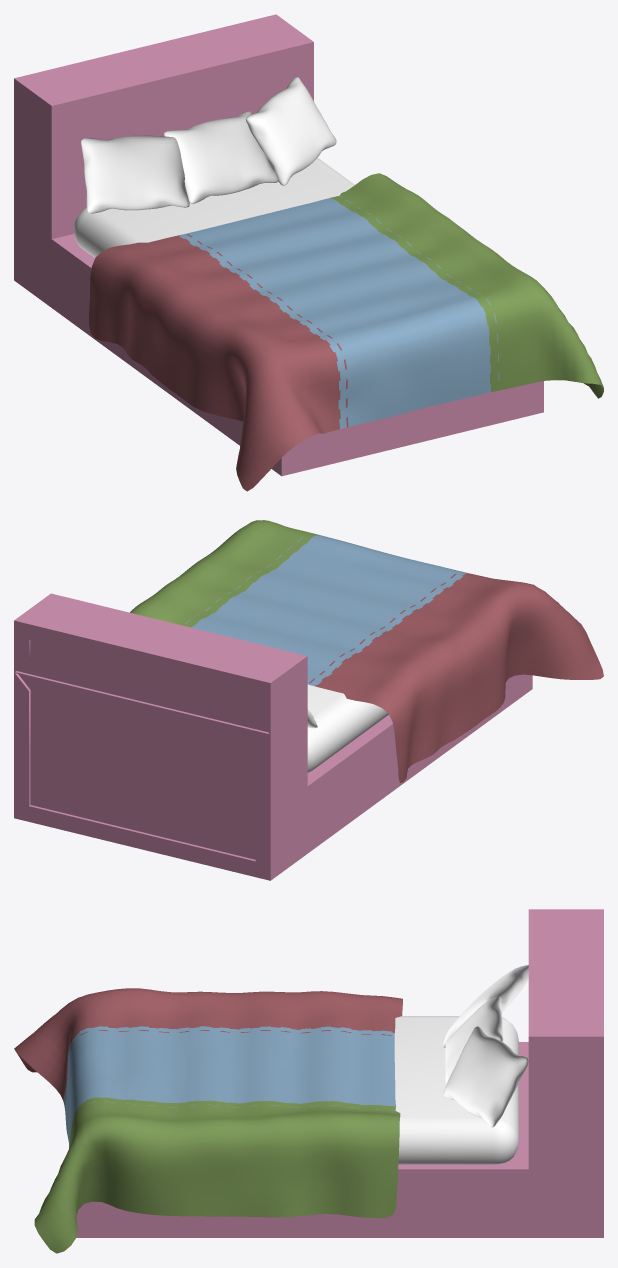
Rendered from bed5.obj.
3 renders of one model, top to bottom at view 1: azimuth 30°, elevation 25°; view 2: azimuth 150°, elevation 25°; view 3: azimuth 270°, elevation 25°, orthographic. The views are drawn at different scales.
Visible parts, largest first — view 1: group2_pasted__Mesh_pasted__polySurface1; view 2: group2_pasted__Mesh_pasted__polySurface1; view 3: group2_pasted__Mesh_pasted__polySurface1.
Part boxes in pixels (x1,y1,x2,y2): group2_pasted__Mesh_pasted__polySurface1: (14,14,603,491); group2_pasted__Mesh_pasted__polySurface1: (14,520,603,880); group2_pasted__Mesh_pasted__polySurface1: (14,909,603,1253).
Bounding box in the file's own units: 3.71 × 1.97 × 5.24.
Materials: 6 (6 with a texture image).
